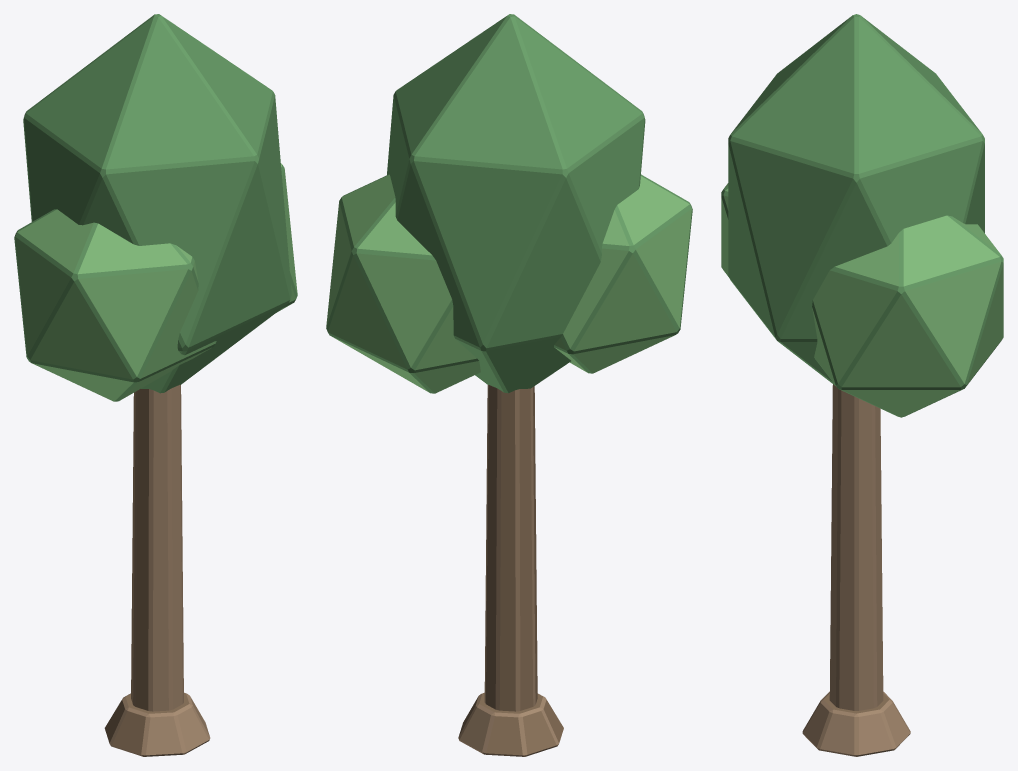
File: 植被_防风树_01.fbx
3 views of the same model, side by side, from view 1: azimuth 30°, elevation 25°; view 2: azimuth 150°, elevation 25°; view 3: azimuth 270°, elevation 25° (orthographic).
Parts seen in each view (by area): view 1: 树冠.006, 树干.006; view 2: 树冠.006, 树干.006; view 3: 树冠.006, 树干.006.
Boxes of the visible parts, box(x1,y1,x2,y2) form: 树冠.006: box(14, 14, 297, 401); 树干.006: box(104, 385, 210, 756); 树冠.006: box(326, 14, 692, 393); 树干.006: box(458, 385, 563, 756); 树冠.006: box(721, 14, 1003, 417); 树干.006: box(802, 384, 910, 756).
Size of the model in its own units: 269 by 620 by 221.
